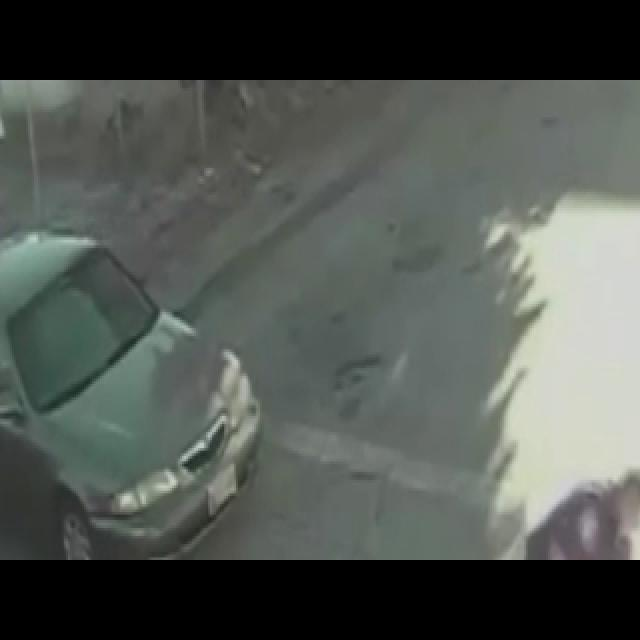shooting: (402, 160, 639, 567)
